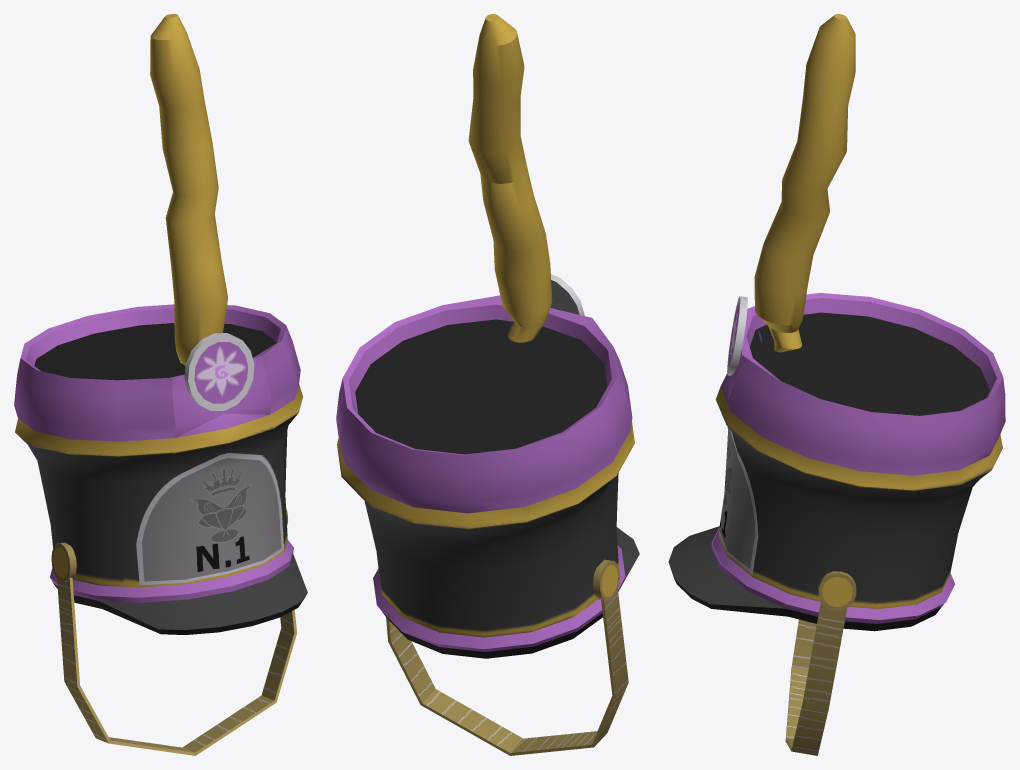
Rendered from officeHat.obj.
The picture shows the model from 3 angles, left to right: view 1: azimuth 30°, elevation 25°; view 2: azimuth 150°, elevation 25°; view 3: azimuth 270°, elevation 25°; orthographic projection. The views are drawn at different scales.
Visible parts, largest first — view 1: officerShako; view 2: officerShako; view 3: officerShako.
Boxes of the visible parts, left/top/right/bottom form: officerShako: left=14, top=14, right=307, bottom=755; officerShako: left=336, top=14, right=639, bottom=755; officerShako: left=668, top=14, right=1005, bottom=755.
Bounding box in the file's own units: 0.7776 × 2.13 × 0.8887.
Materials: 2 (2 with a texture image).
